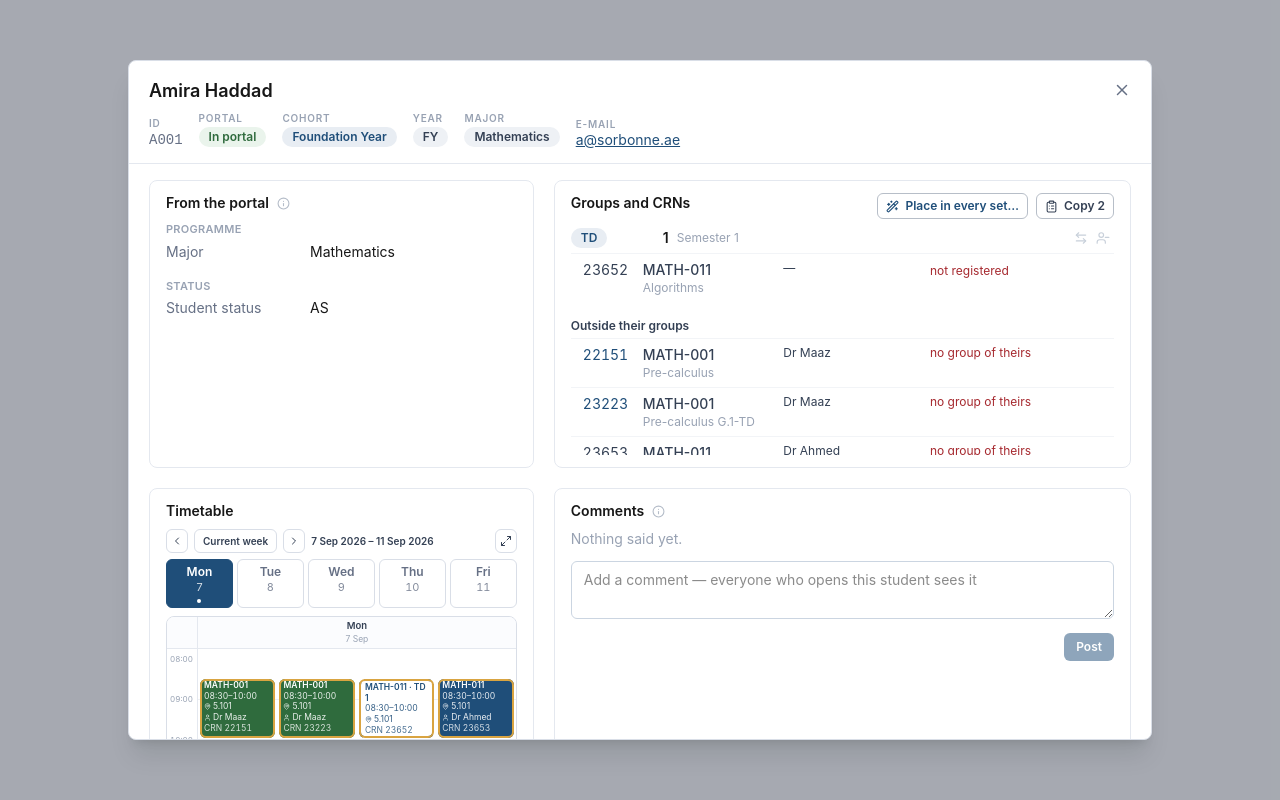
Test: a student's record › offers every other group with its free seats, and not the one they are in
The image size is (1280, 800).
Click the button named "Change group in TD" at (1081, 238), box left=1070, top=227, right=1092, bottom=249
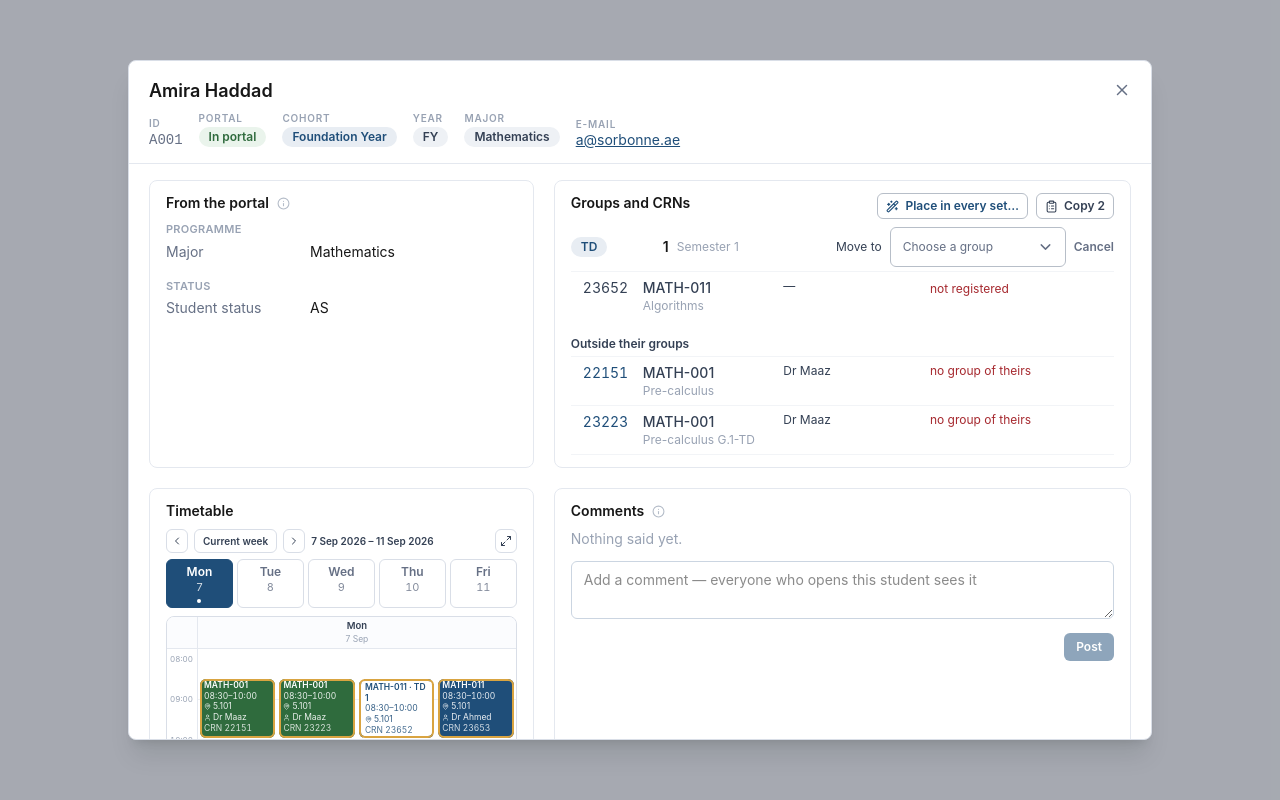
Click the dropdown named "Move from TD 1 to" at (978, 247), box left=890, top=227, right=1066, bottom=267
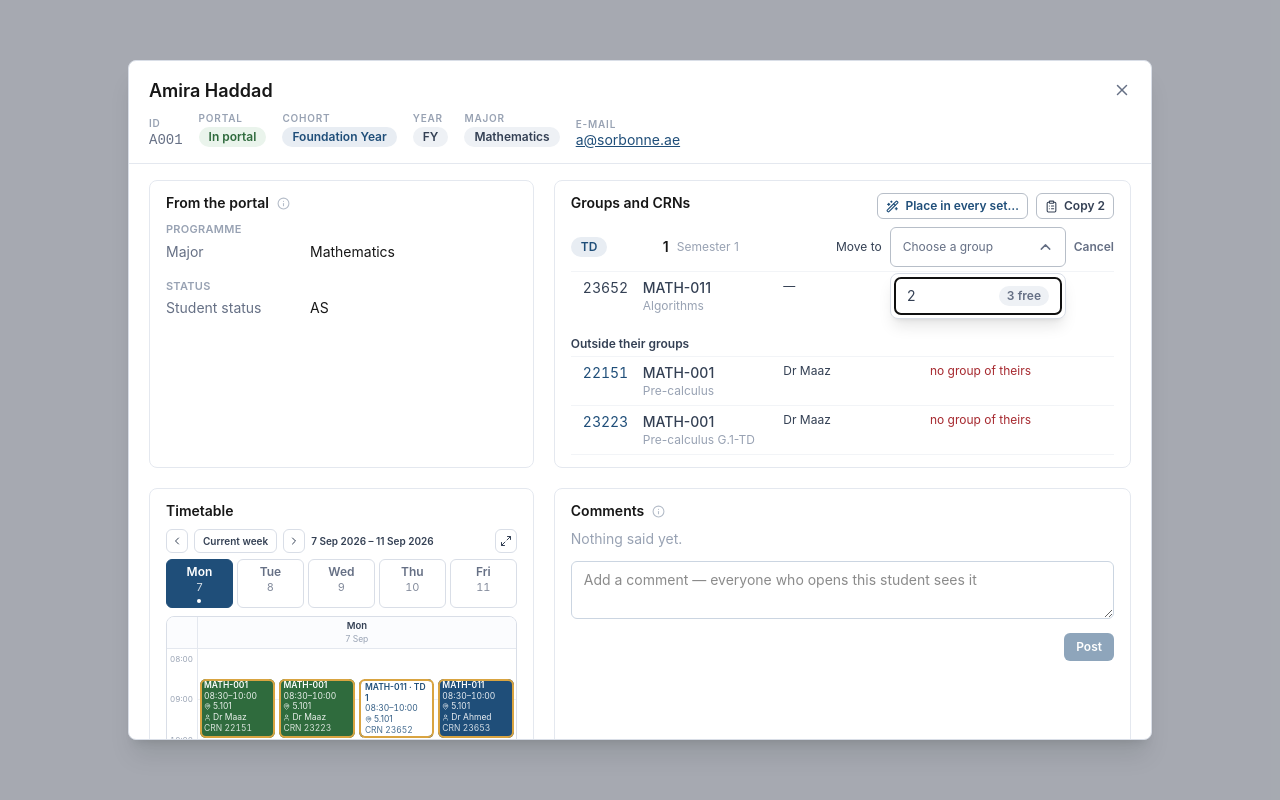
Expected: the number of options is 1, left=895, top=278, right=1061, bottom=314
Expected: the option reads "2 3 free", left=895, top=278, right=1061, bottom=314
